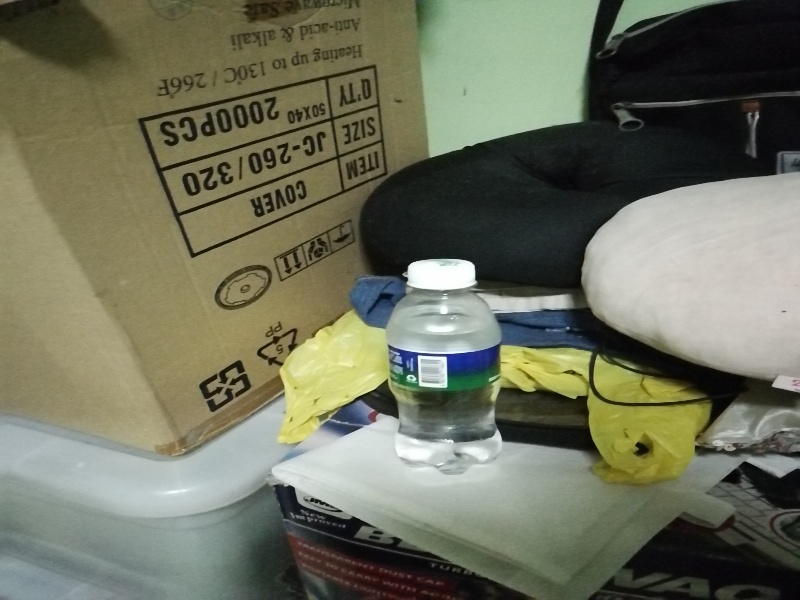PET #1: (386, 254, 508, 481)
